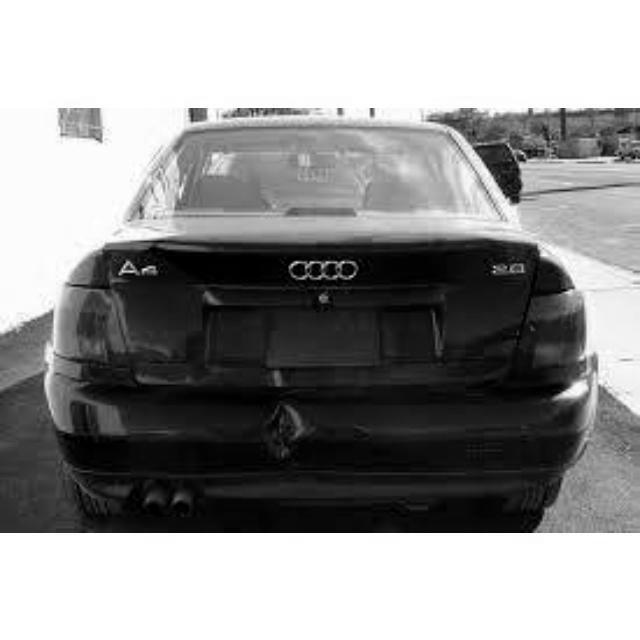rear-bumper-dent: (124, 380, 521, 503)
